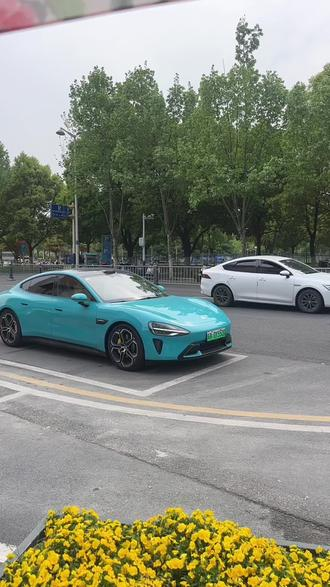other: (194, 258, 330, 311)
su7: (2, 270, 233, 380)
